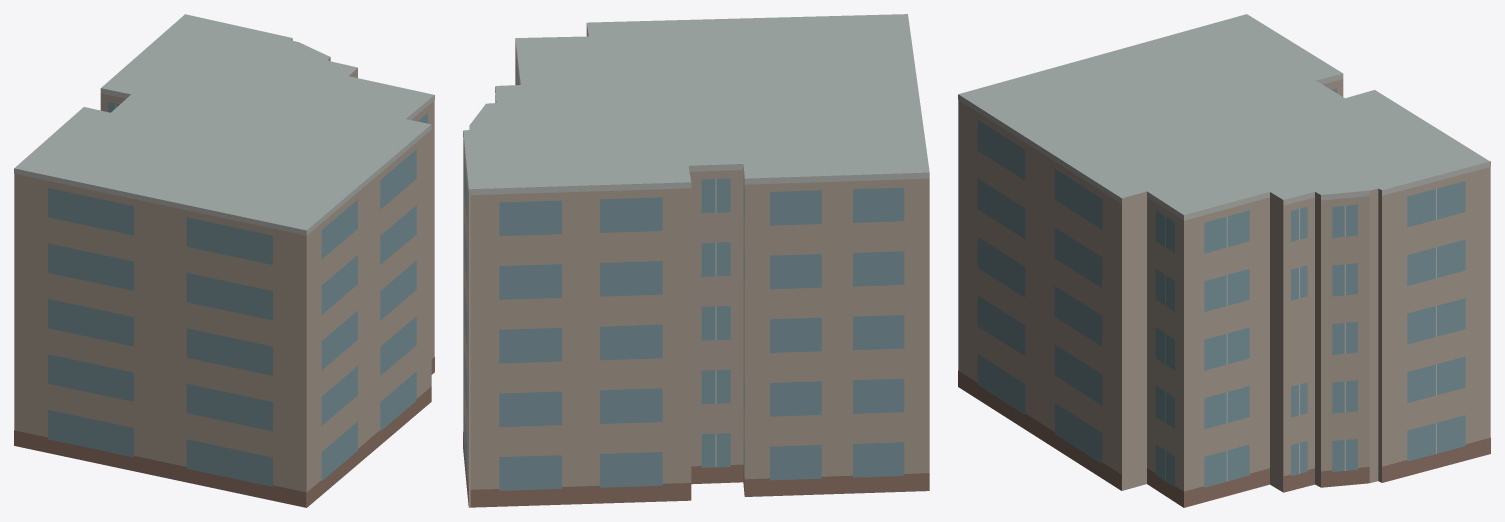
The model's file is survey-upis-32778794.glb.
The picture shows the model from 3 angles, left to right: view 1: azimuth 30°, elevation 25°; view 2: azimuth 150°, elevation 25°; view 3: azimuth 270°, elevation 25°; orthographic projection. The views are drawn at different scales.
Visible parts, largest first — view 1: survey-upis-32778794.tmp; view 2: survey-upis-32778794.tmp; view 3: survey-upis-32778794.tmp.
Boxes of the visible parts, bbox=[...] form: survey-upis-32778794.tmp: bbox=[14, 14, 434, 507]; survey-upis-32778794.tmp: bbox=[463, 14, 929, 507]; survey-upis-32778794.tmp: bbox=[958, 14, 1490, 507].
Bounding box in the file's own units: 19.03 × 12.9 × 21.28.
